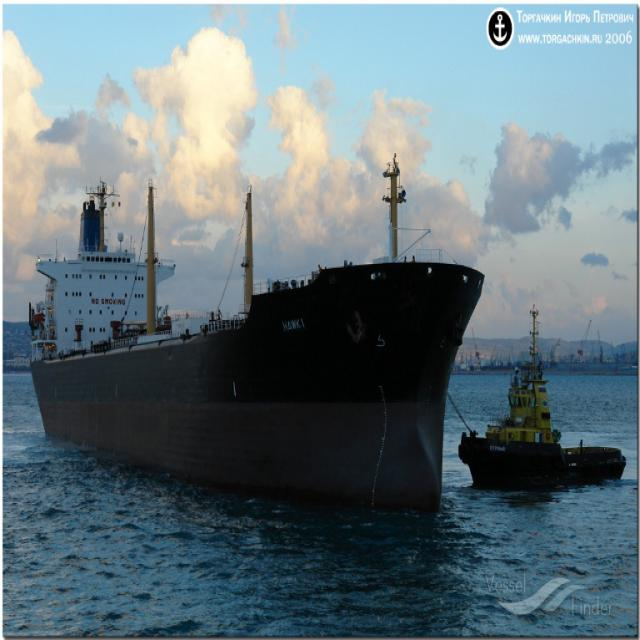OCR: (279, 306, 310, 340)
